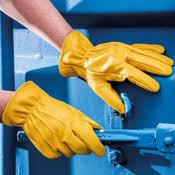gloves: (58, 31, 174, 114), (1, 80, 106, 160)
